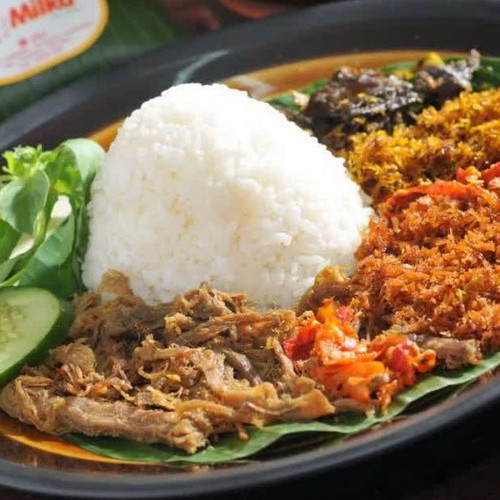nasi tepeng: (10, 67, 496, 432)
